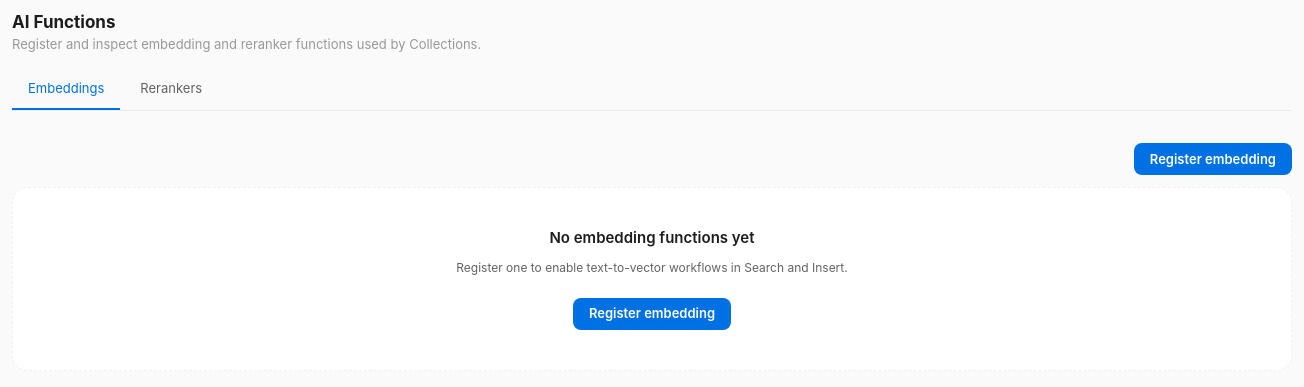
Test: AiFunctionsPage › switches to the Rerankers tab and lists reranker records
Check: the message with test id "zv-ai-emb-empty" is shown, box [12, 187, 1292, 371]
Click the tab "Rerankers": x=171, y=89 [124, 68, 218, 110]
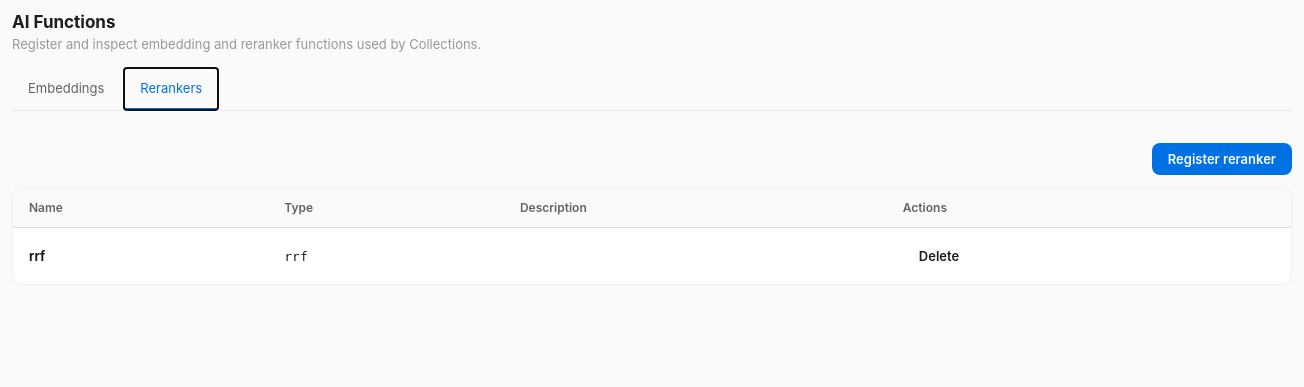
Check: the element with test id "zv-ai-rer-table" is shown, box [12, 187, 1292, 285]
Check: the text with test id "zv-ai-rer-name-rrf" reads "rrf", box [29, 248, 45, 264]
